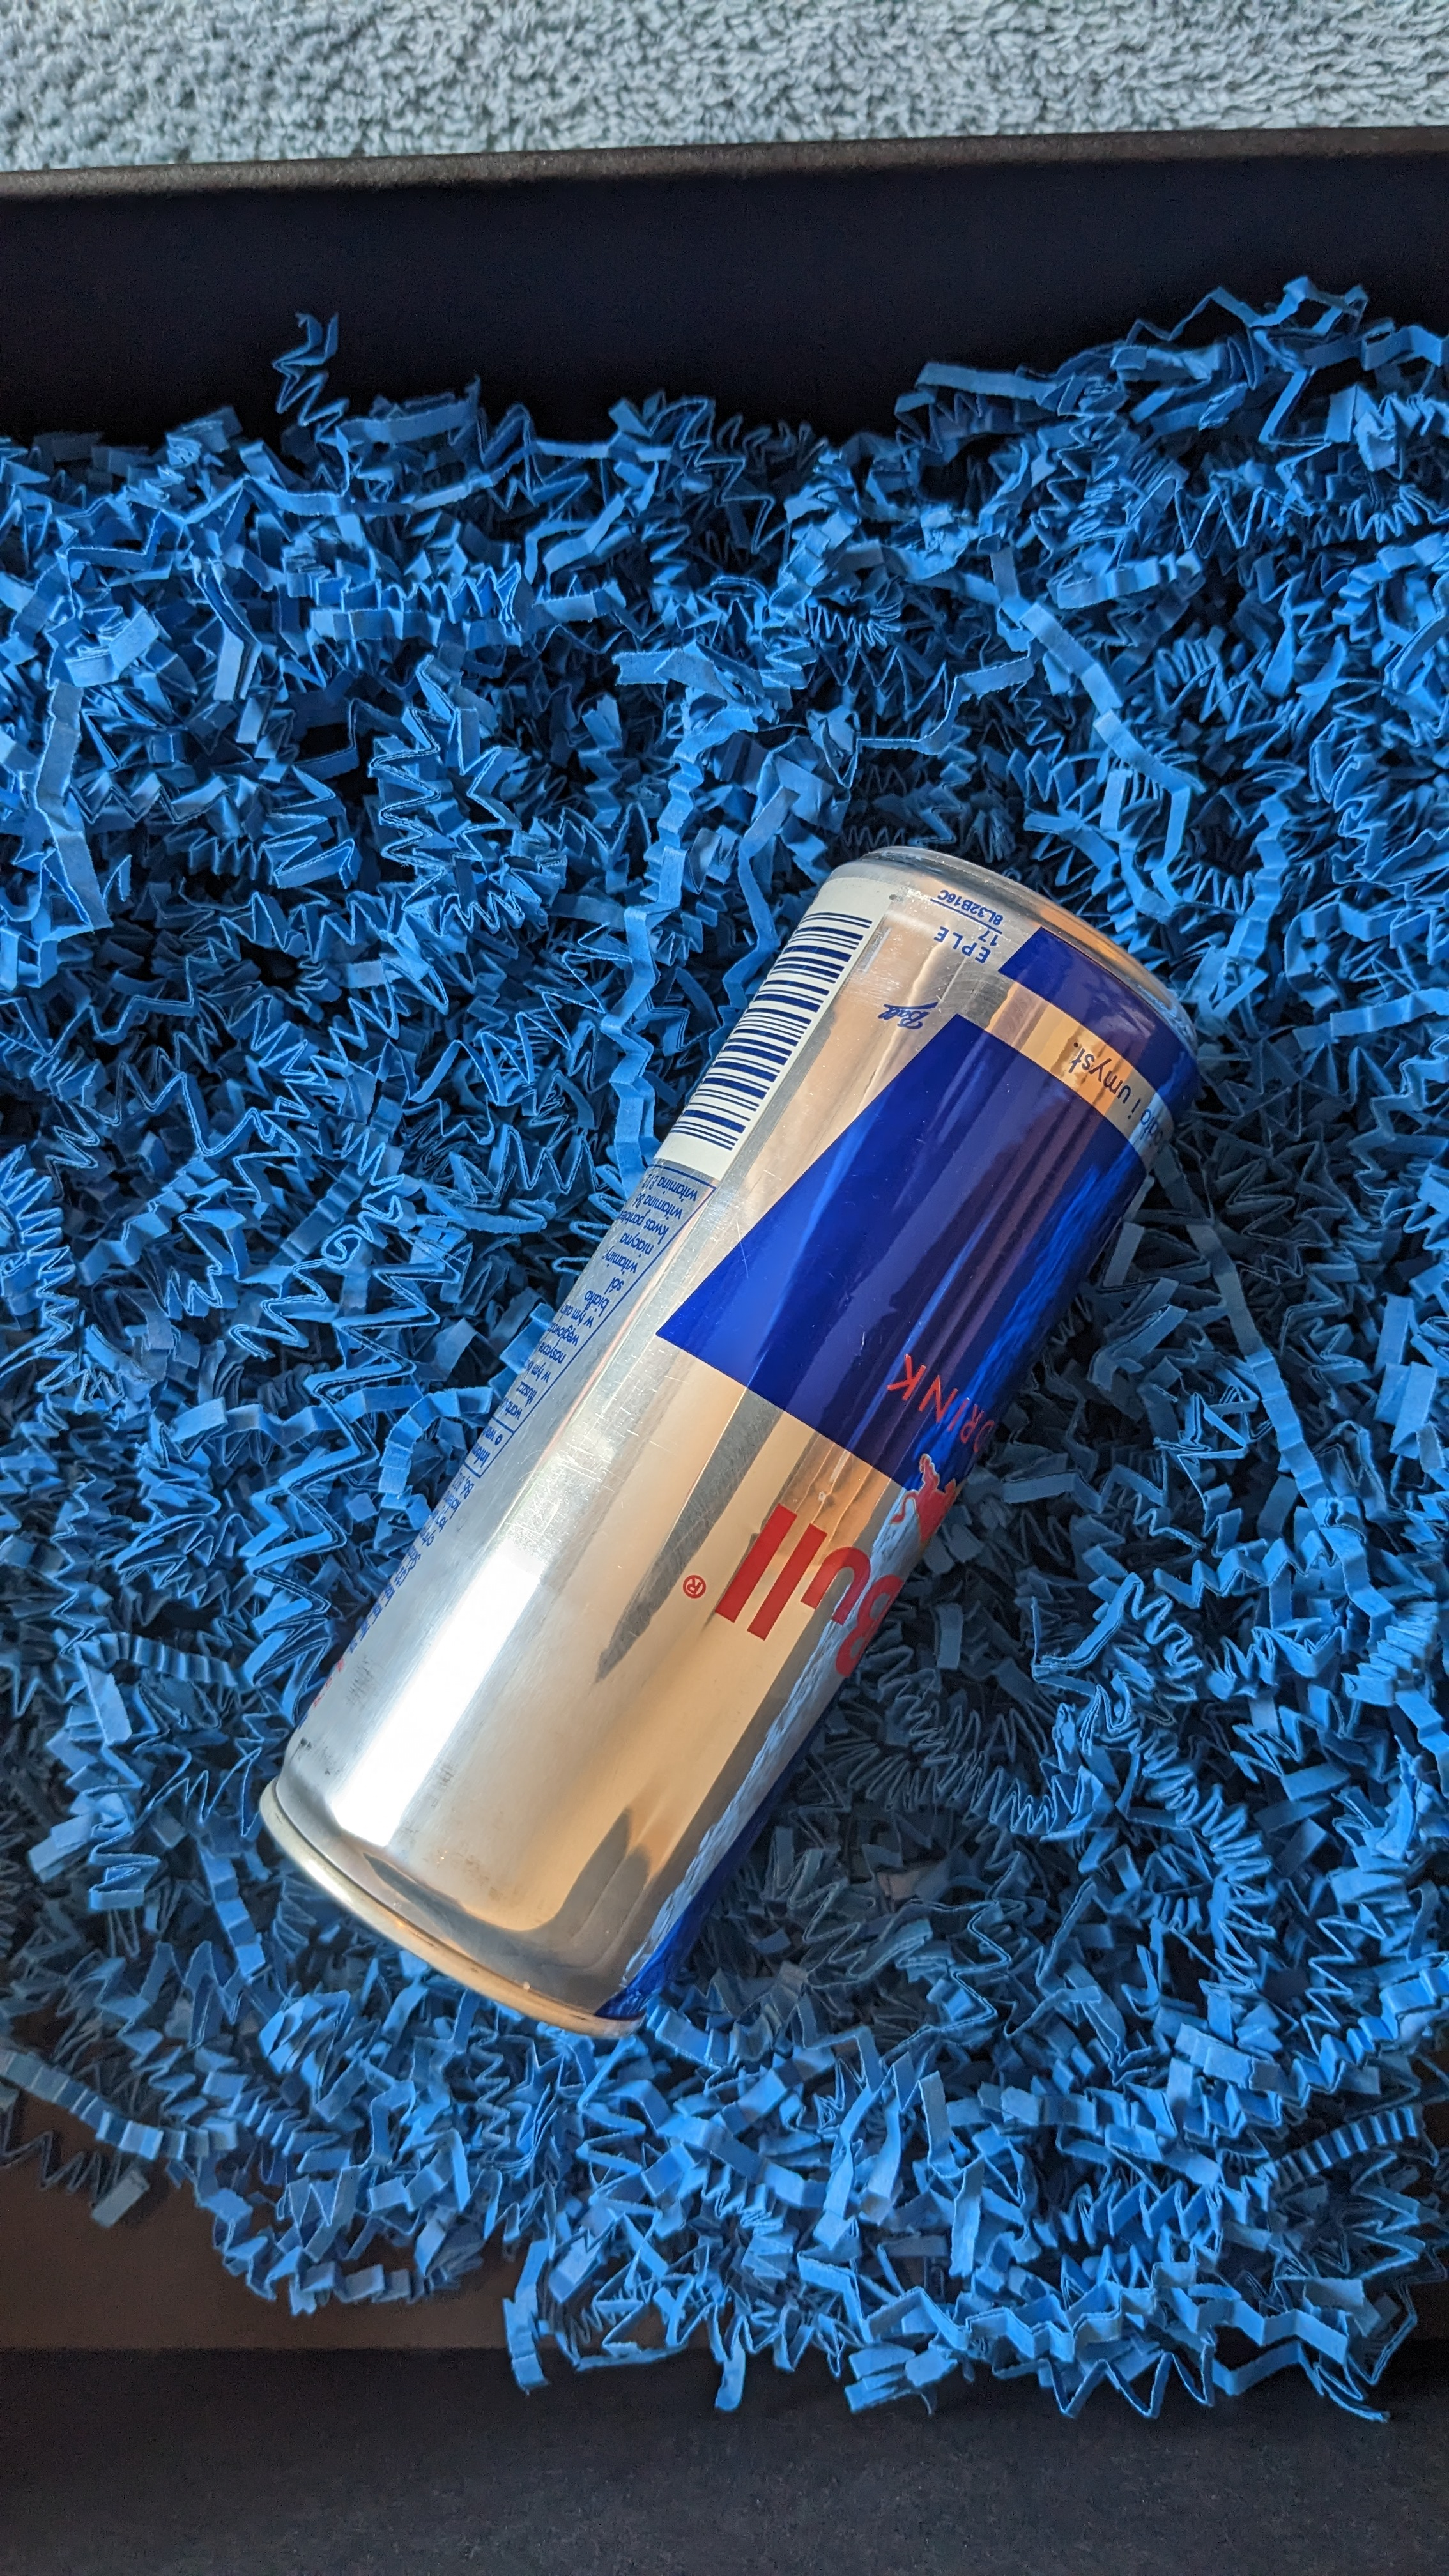red-bull: (244, 837, 1207, 2070)
